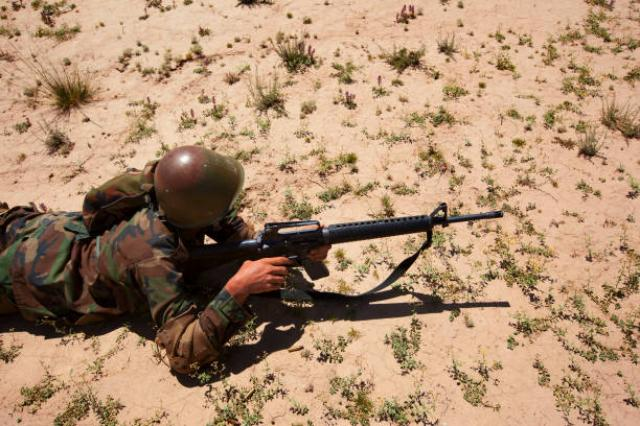other: (0, 136, 286, 375)
